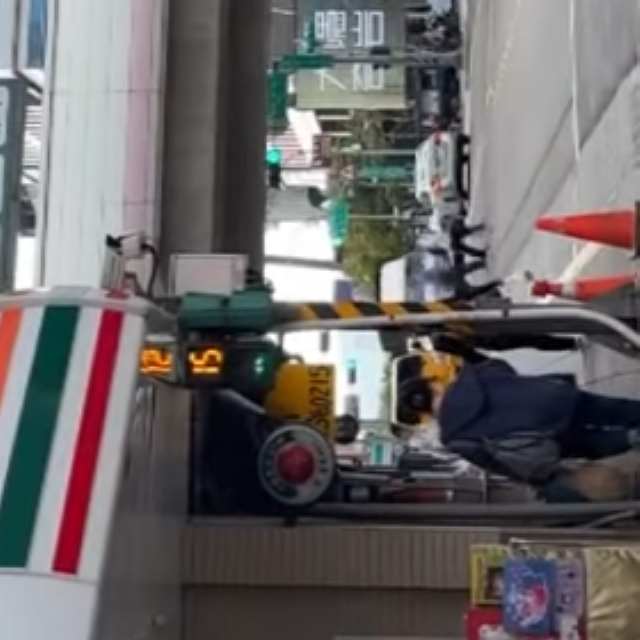green_light: (183, 347, 276, 382)
